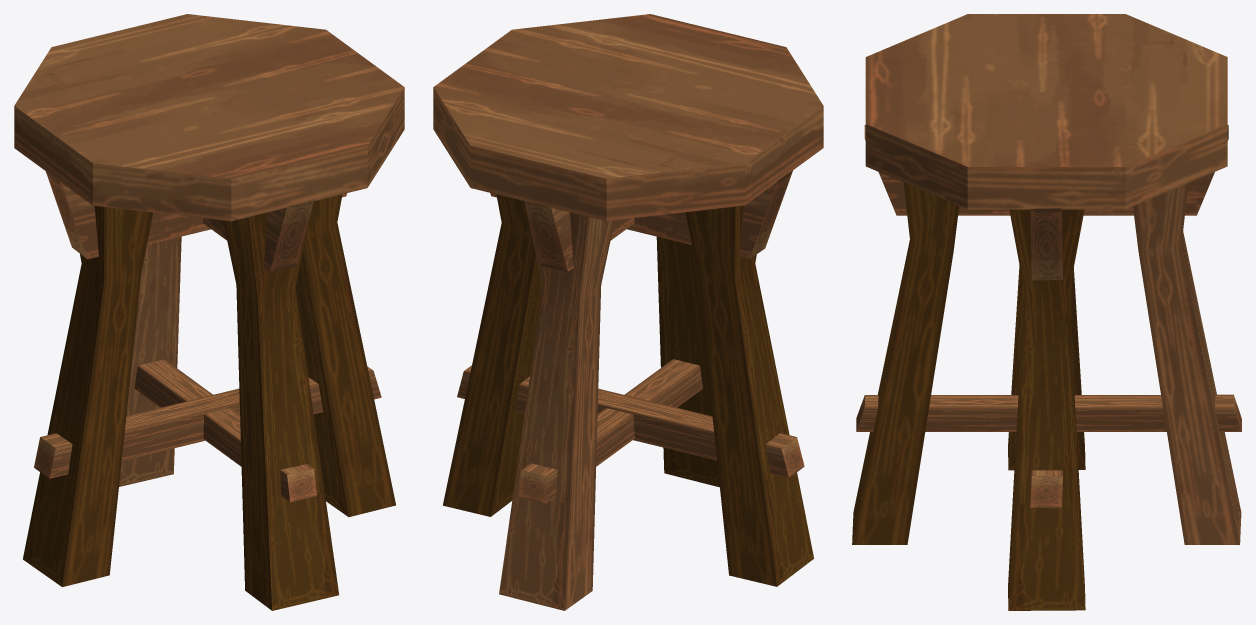
Rendered from prop_chair_001.glb.
3 renders of one model, left to right at view 1: azimuth 30°, elevation 25°; view 2: azimuth 150°, elevation 25°; view 3: azimuth 270°, elevation 25°, orthographic.
Visible parts, largest first — view 1: Stool; view 2: Stool; view 3: Stool.
Boxes of the visible parts, x1,y1,x2,y2 form: Stool: (14,14,404,610); Stool: (433,14,823,610); Stool: (852,14,1241,610).
Size of the model in its own units: 0.4746 by 0.5887 by 0.4746.
1 material, 1 textured.
